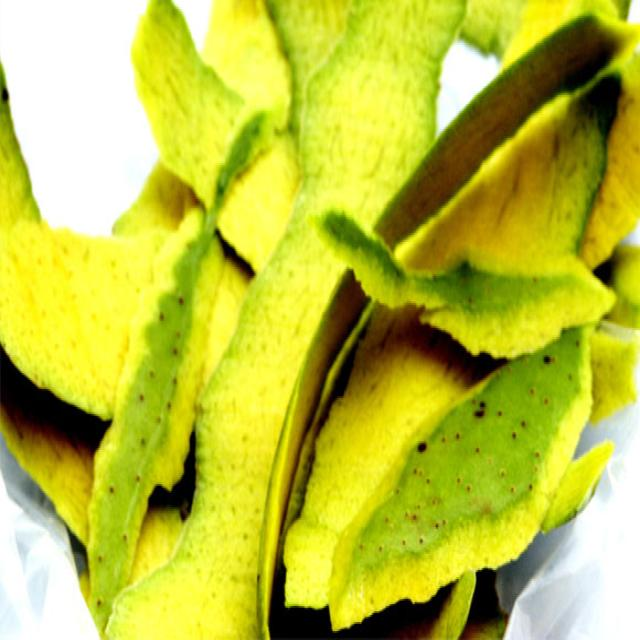Organik: (91, 9, 594, 602)
